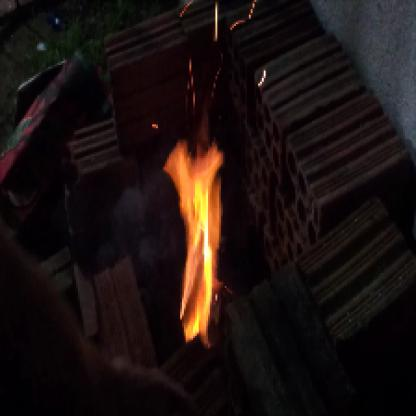Fire: (164, 128, 226, 346)
